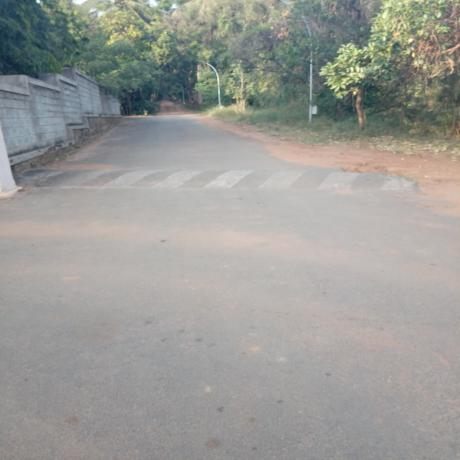Speed Bump: (17, 165, 431, 193)
